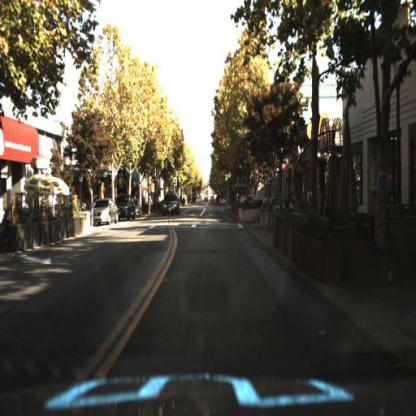car: (90, 198, 119, 226), (91, 198, 121, 223), (114, 194, 136, 223), (159, 192, 180, 217), (118, 196, 135, 218), (164, 192, 178, 212)
